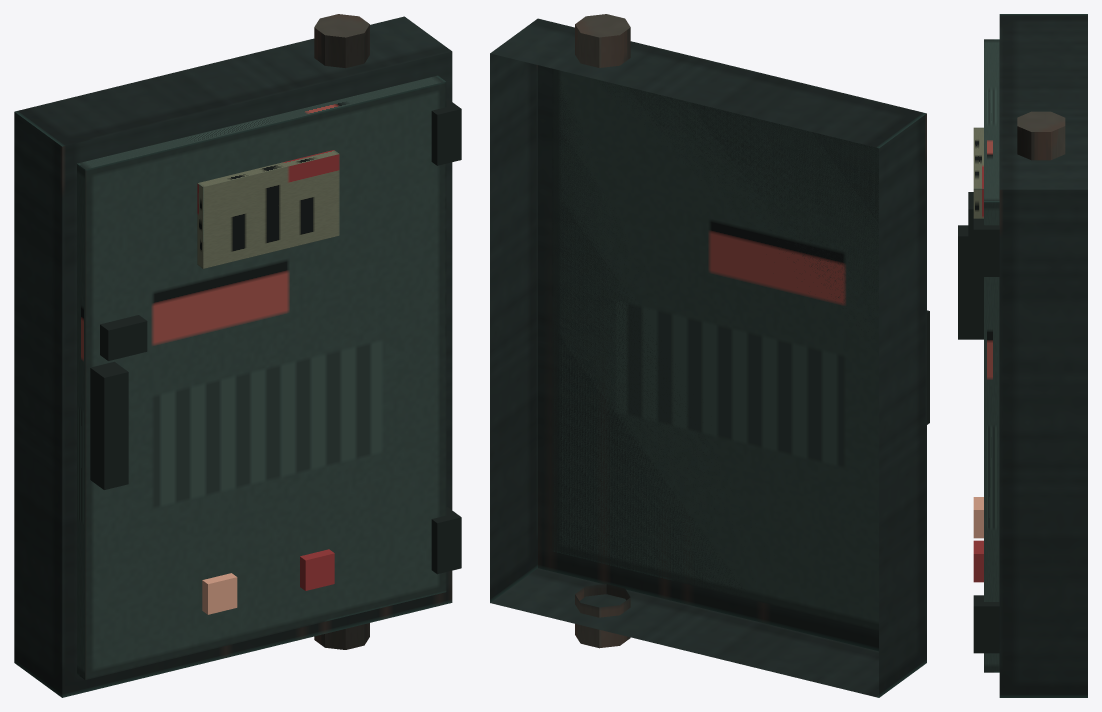
Rendered from SM_MachProp_Panel_Breaker_80x25x120.fbx.
The picture shows the model from 3 angles, left to right: view 1: azimuth 30°, elevation 25°; view 2: azimuth 150°, elevation 25°; view 3: azimuth 270°, elevation 25°; orthographic projection. The views are drawn at different scales.
Visible parts, largest first — view 1: SM_MachProp_Panel_Breaker_80x25x120.001; view 2: SM_MachProp_Panel_Breaker_80x25x120.001; view 3: SM_MachProp_Panel_Breaker_80x25x120.001.
Part boxes in pixels (x1=…): SM_MachProp_Panel_Breaker_80x25x120.001: x1=14, y1=14, x2=461, y2=697; SM_MachProp_Panel_Breaker_80x25x120.001: x1=490, y1=14, x2=929, y2=697; SM_MachProp_Panel_Breaker_80x25x120.001: x1=958, y1=14, x2=1087, y2=697.
Size of the model in its own units: 0.8 by 1.2 by 0.25.
